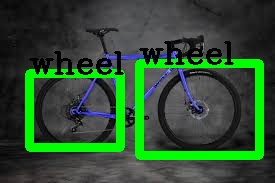wheel: (139, 63, 259, 155), (29, 73, 120, 147)
